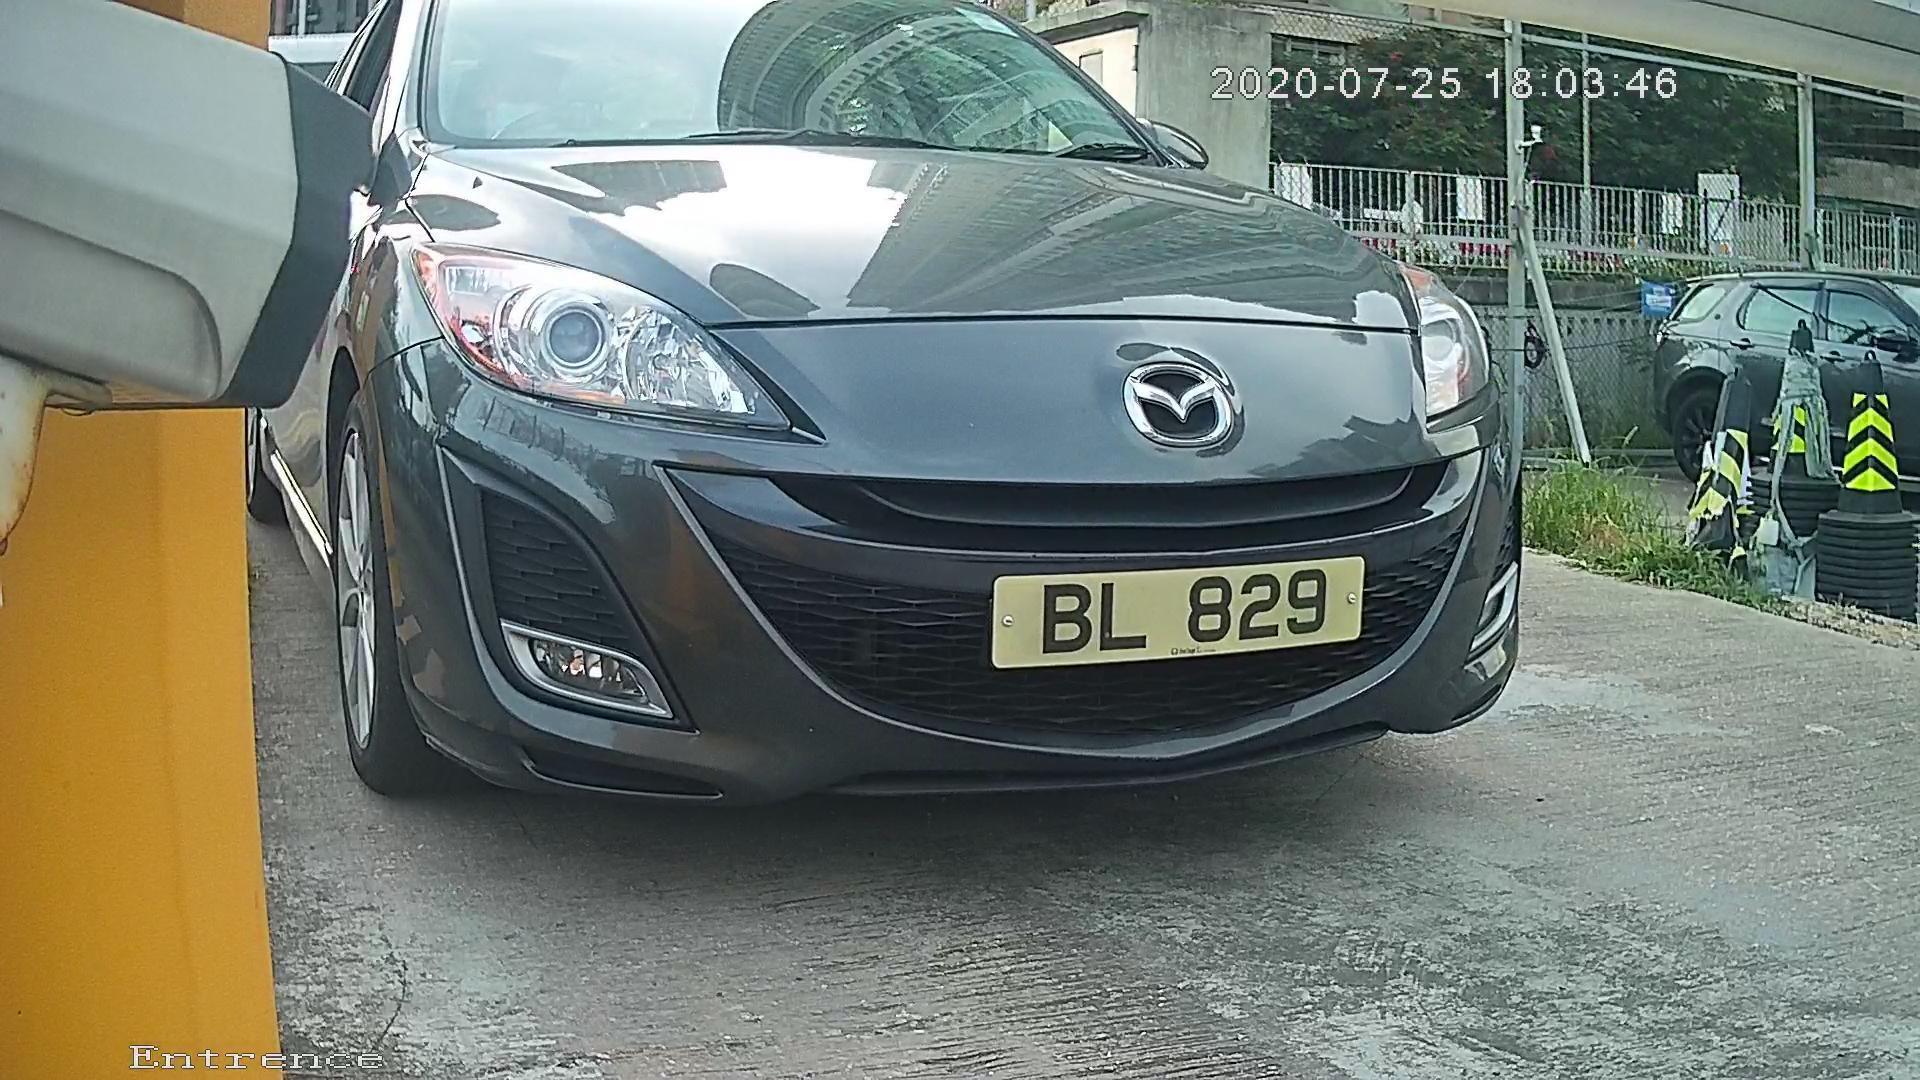privatecar: (249, 25, 1621, 844)
